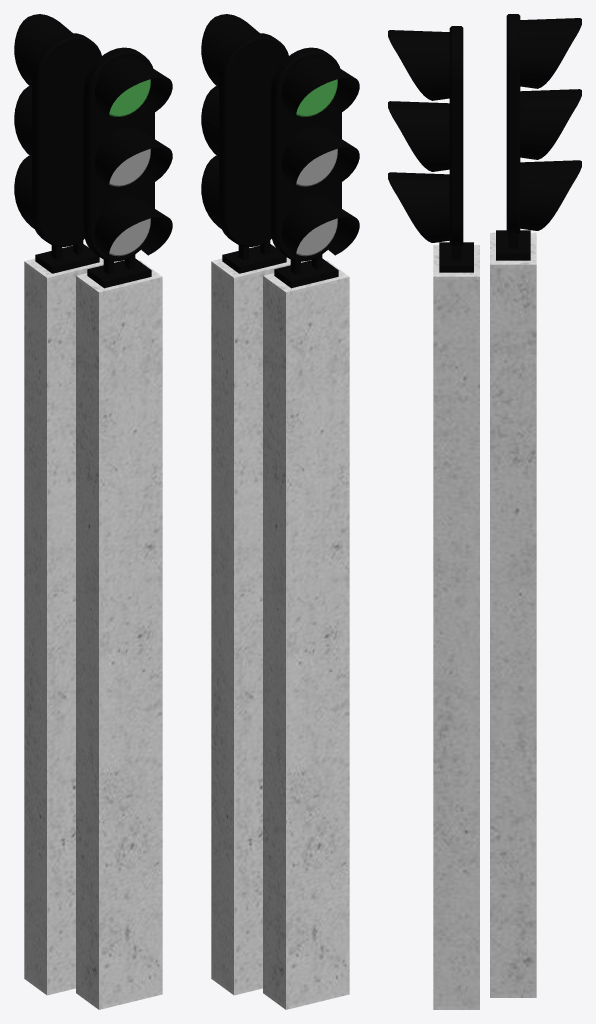
File: signal_lamp_g_d.obj
The picture shows the model from 3 angles, left to right: view 1: azimuth 30°, elevation 25°; view 2: azimuth 210°, elevation 25°; view 3: azimuth 270°, elevation 25°; orthographic projection. The views are drawn at different scales.
Visible parts, largest first — view 1: 4.004; view 2: 4.004; view 3: 4.004.
Boxes of the visible parts, bbox=[...] form: 4.004: bbox=[14, 14, 172, 1009]; 4.004: bbox=[201, 14, 359, 1009]; 4.004: bbox=[388, 14, 581, 1009].
Size of the model in its own units: 0.376 by 3.74 by 0.6813.
Materials: 5 (5 with a texture image).
